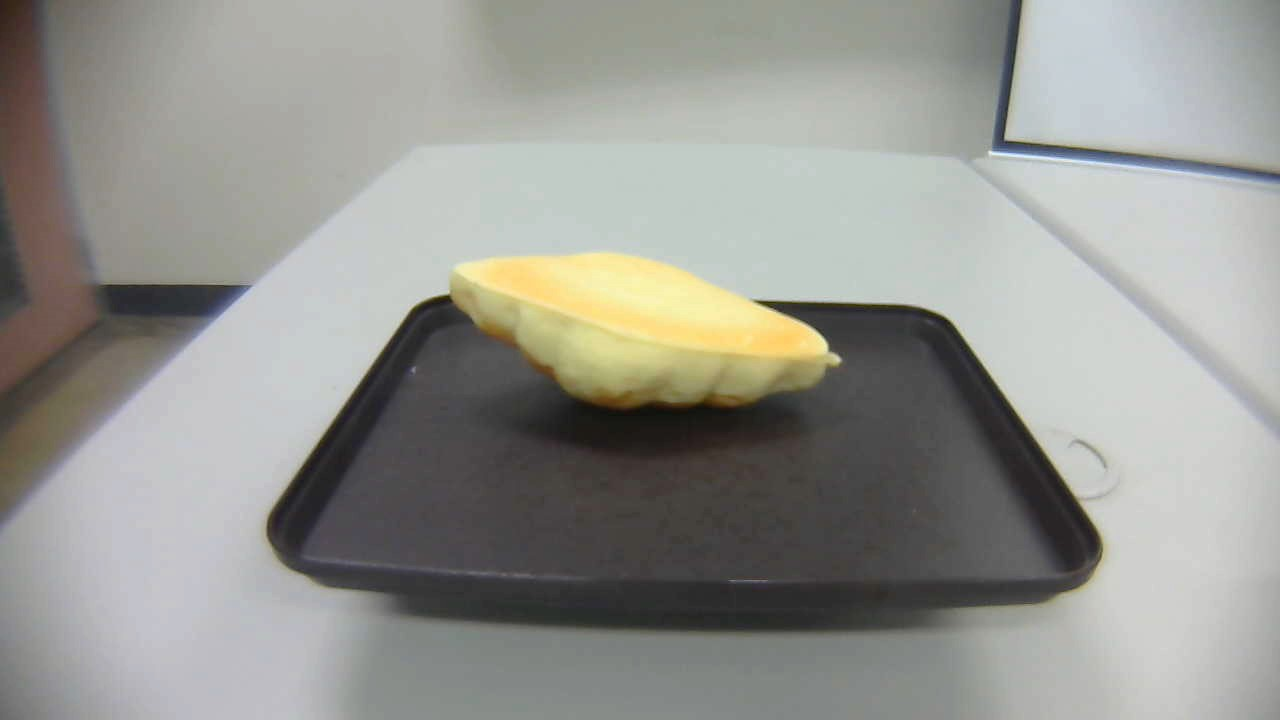croissant: (448, 254, 840, 412)
